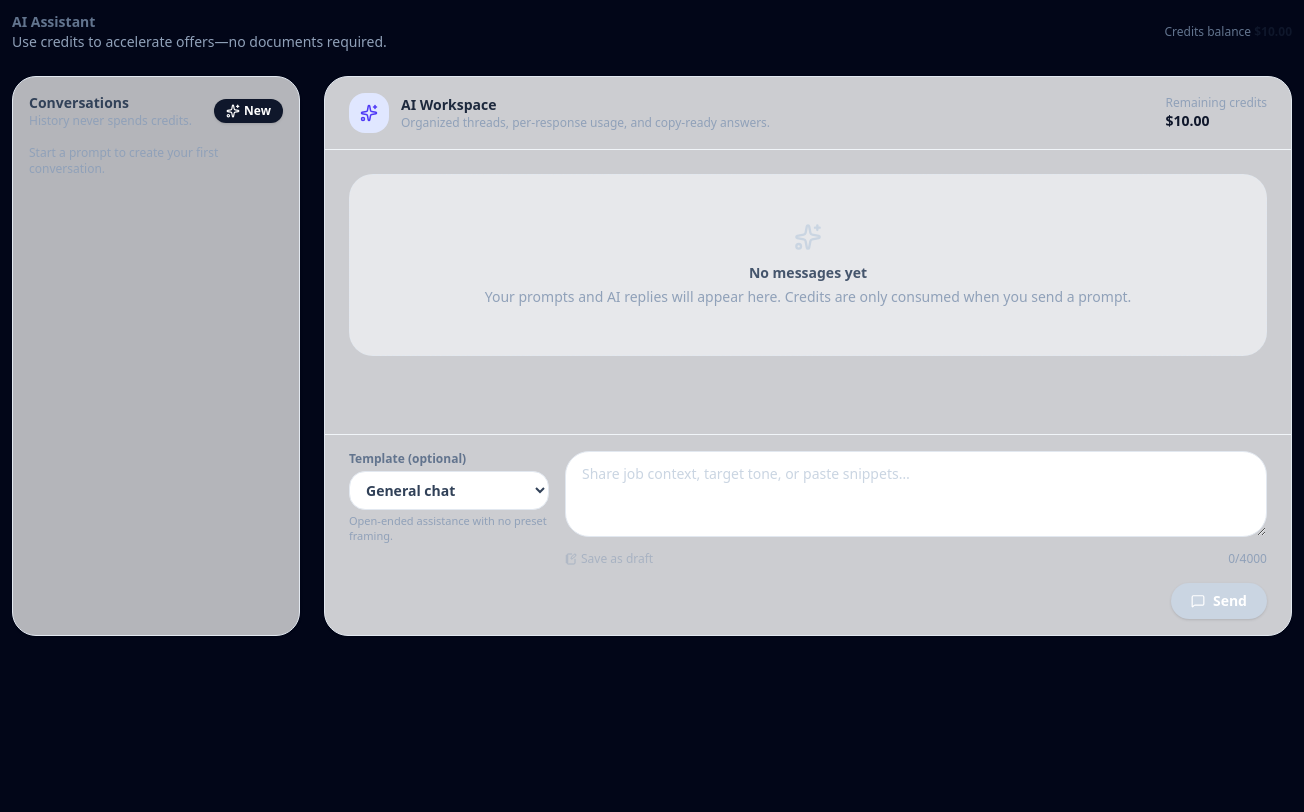
it: AIAssistantPage › shows insufficient credit CTA
The image size is (1304, 812).
In the text box with placeholder "Share job context, target tone, or paste snippets…": (916, 494) [565,451,1267,537], type "Help me tailor my resume"
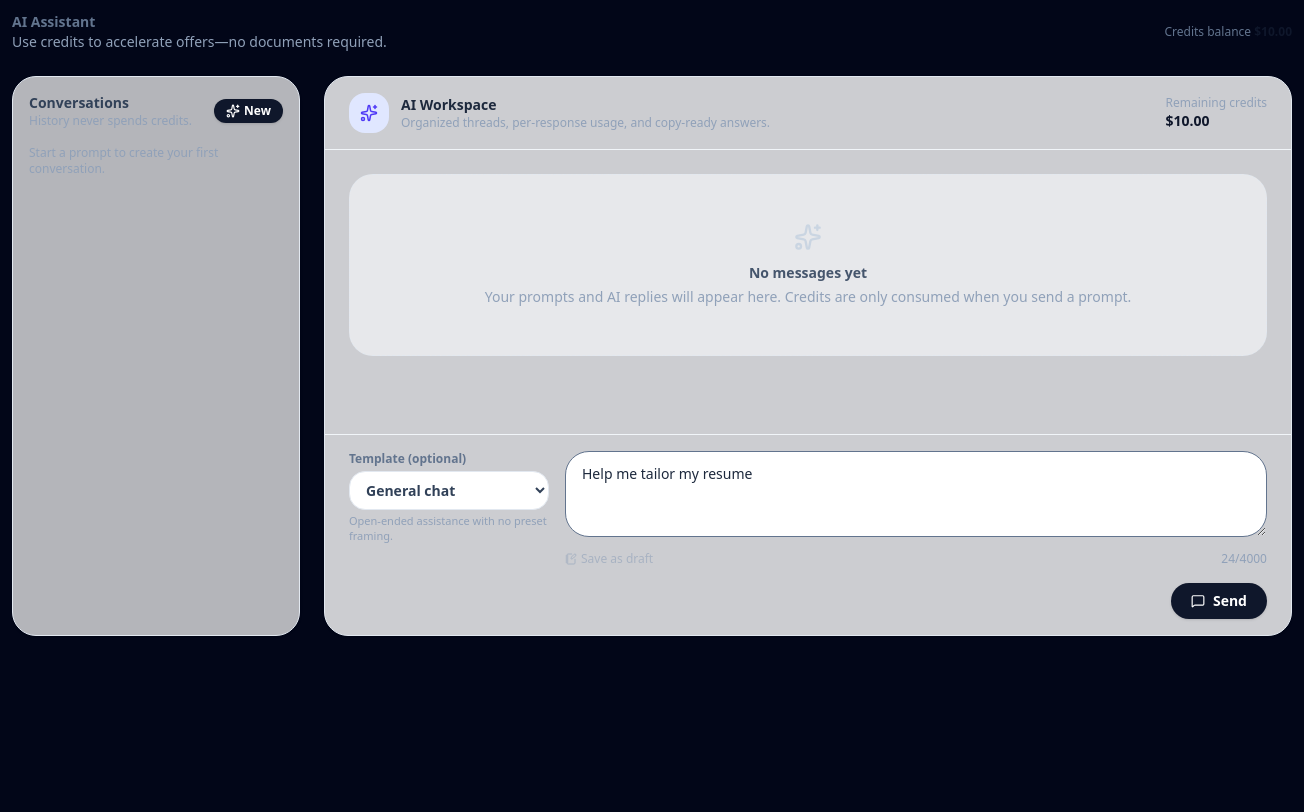
Click the button "Send": (1219, 601) [1171,583,1267,619]
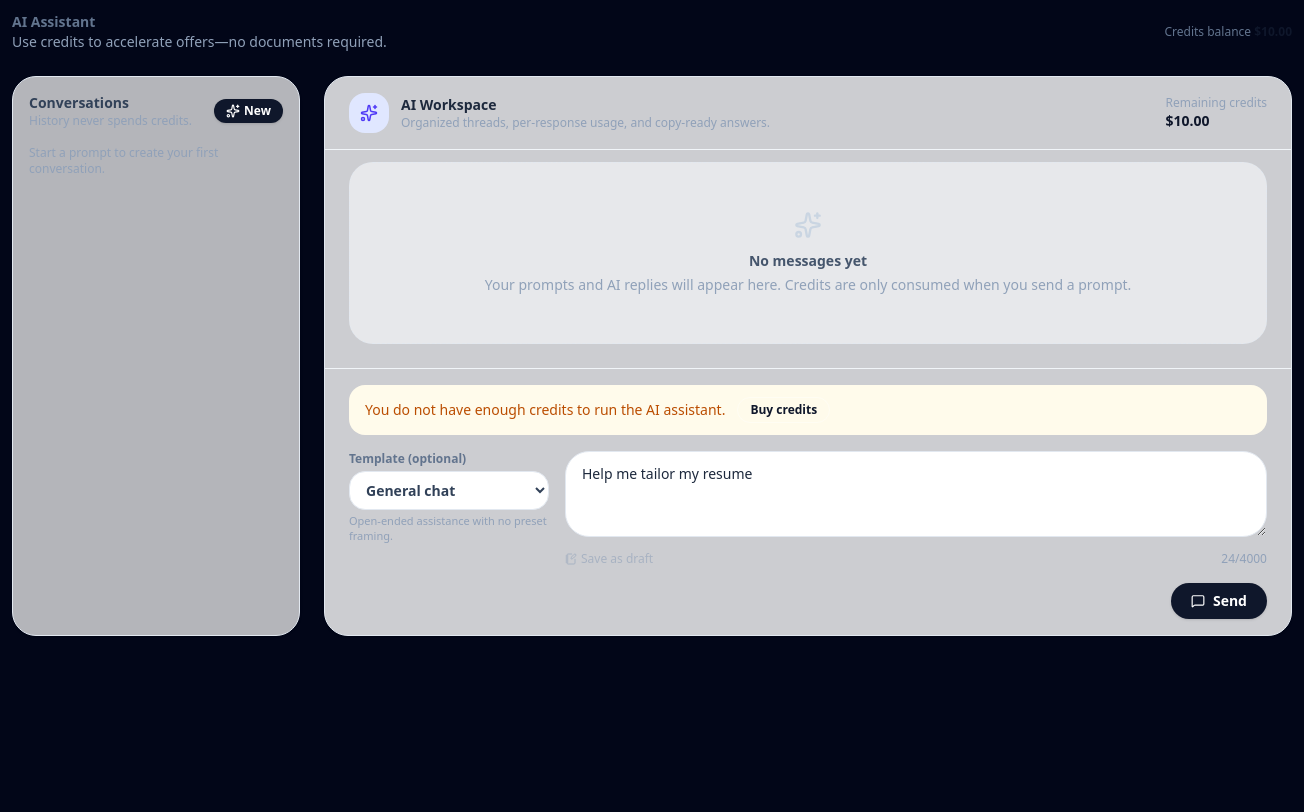
Now the text "You do not have enough credits to run the AI assistant." is shown, box [365,400,725,420]
Now the button "Buy credits" is shown, box [737,397,830,423]
